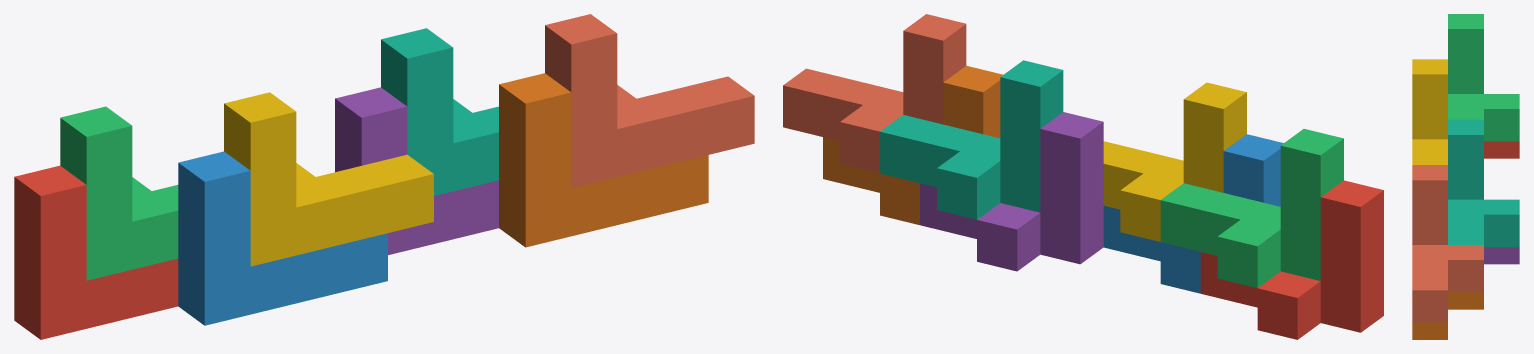
Rendered from tiling.obj.
The picture shows the model from 3 angles, left to right: view 1: azimuth 30°, elevation 25°; view 2: azimuth 150°, elevation 25°; view 3: azimuth 270°, elevation 25°; orthographic projection. The views are drawn at different scales.
Parts seen in each view (by area): view 1: copy_1_domain_4, copy_1_domain_8, copy_1_domain_2, copy_1_domain_6, copy_1_domain_1, copy_1_domain_3, copy_1_domain_7, copy_1_domain_5; view 2: copy_1_domain_7, copy_1_domain_3, copy_1_domain_1, copy_1_domain_5, copy_1_domain_8, copy_1_domain_4, copy_1_domain_2, copy_1_domain_6; view 3: copy_1_domain_8, copy_1_domain_7, copy_1_domain_3, copy_1_domain_4, copy_1_domain_6, copy_1_domain_1, copy_1_domain_5.
Boxes of the visible parts, x1,y1,x2,y2 form: copy_1_domain_4: (224,92,433,266); copy_1_domain_8: (545,14,754,188); copy_1_domain_2: (178,151,387,325); copy_1_domain_6: (499,73,708,247); copy_1_domain_1: (14,165,178,339); copy_1_domain_3: (60,106,178,280); copy_1_domain_7: (381,28,498,195); copy_1_domain_5: (335,87,498,254); copy_1_domain_7: (880,60,1063,219); copy_1_domain_3: (1160,129,1343,288); copy_1_domain_1: (1200,180,1383,339); copy_1_domain_5: (920,112,1103,271); copy_1_domain_8: (783,14,966,173); copy_1_domain_4: (1103,82,1246,241); copy_1_domain_2: (1103,134,1283,293); copy_1_domain_6: (823,65,1002,224); copy_1_domain_8: (1412,165,1483,322); copy_1_domain_7: (1448,119,1519,247); copy_1_domain_3: (1448,14,1519,141); copy_1_domain_4: (1412,59,1447,164); copy_1_domain_6: (1412,292,1483,339); copy_1_domain_1: (1484,141,1519,158); copy_1_domain_5: (1484,247,1519,264).
Bounding box in the file's own units: 15 × 4 × 3.
